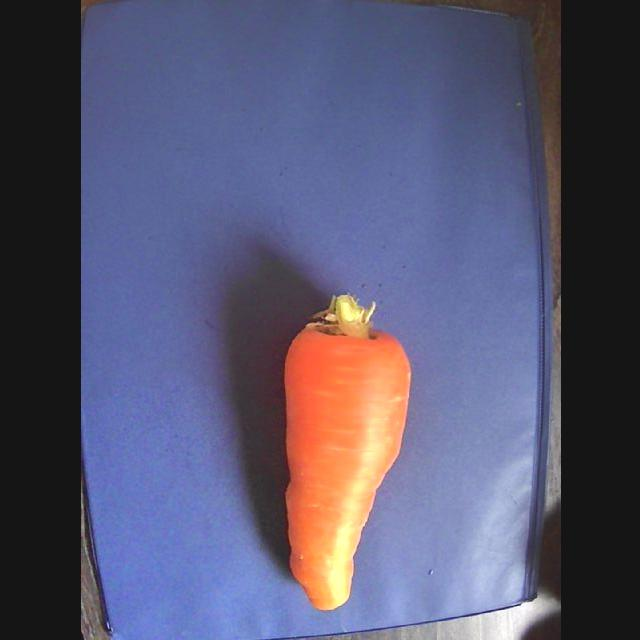zanahoria: (285, 295, 410, 610)
